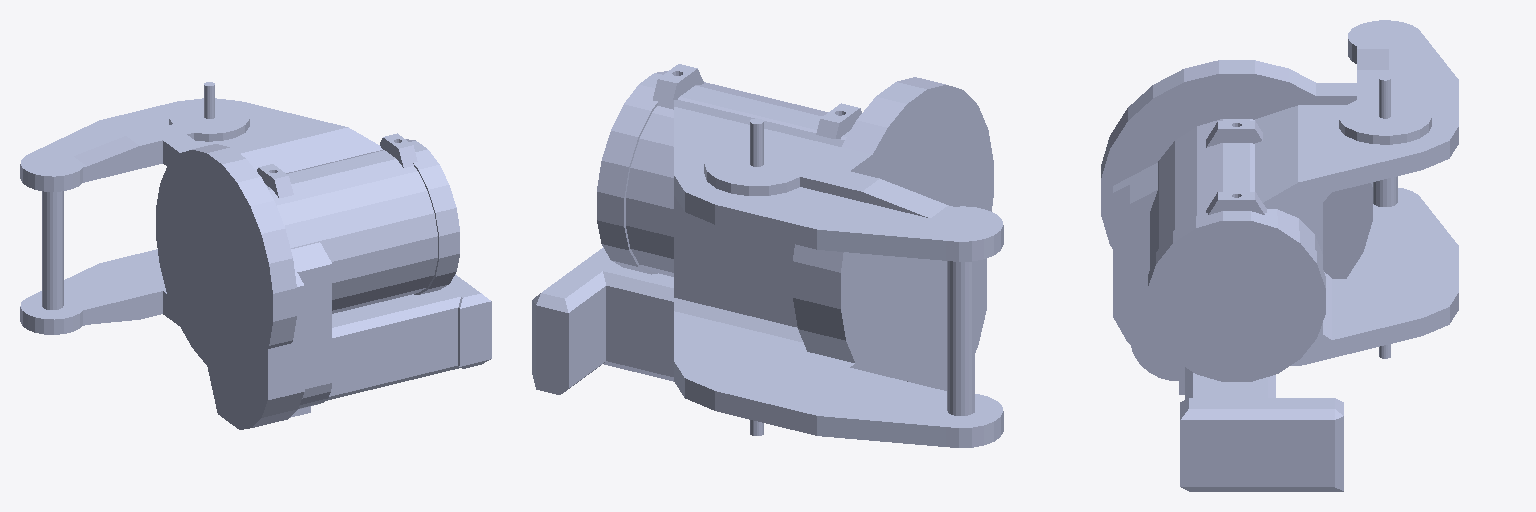
robot.urdf — link3:
<robot
  name="link3">
  <link
    name="link3_fixed_coordinate">
    <inertial>
      <origin
        xyz="0.032316 -0.10506 -0.027437"
        rpy="0 0 0" />
      <mass
        value="7.4487" />
      <inertia
        ixx="0.0559221269064628"
        ixy="0.00737491499245027"
        ixz="0.00817092524689219"
        iyy="0.0796970494385453"
        iyz="-0.00512048798704862"
        izz="0.0723378108896853" />
    </inertial>
    <visual>
      <origin
        xyz="0 0 0"
        rpy="0 0 0" />
      <geometry>
        <mesh
          filename="package://link3_fixed_coordinate/meshes/link3_fixed_coordinate.STL" />
      </geometry>
      <material
        name="">
        <color
          rgba="0.79216 0.81961 0.93333 1" />
      </material>
    </visual>
    <collision>
      <origin
        xyz="0 0 0"
        rpy="0 0 0" />
      <geometry>
        <mesh
          filename="package://link3_fixed_coordinate/meshes/link3_fixed_coordinate.STL" />
      </geometry>
    </collision>
  </link>
</robot>

--- What the picture shows (computed from the rendered views, not written in the file) ---
Views: 3 orthographic renders of the robot side by side, from view 1: azimuth 30°, elevation 25°; view 2: azimuth 150°, elevation 25°; view 3: azimuth 270°, elevation 25°.
Robot: link3 — 1 links, 0 joints (none); root link link3_fixed_coordinate; default pose: all joints at 0.
Visible links, largest first — view 1: link3_fixed_coordinate; view 2: link3_fixed_coordinate; view 3: link3_fixed_coordinate.
Link boxes in pixels (left/top/right/bottom): link3_fixed_coordinate: left=20, top=82, right=491, bottom=429; link3_fixed_coordinate: left=532, top=64, right=1003, bottom=447; link3_fixed_coordinate: left=1101, top=20, right=1458, bottom=491.
Bounding box of the posed robot: 0.41 × 0.29 × 0.276 m (x, y, z).
1 mesh visuals loaded from 1 distinct referenced files (1 binary STL).